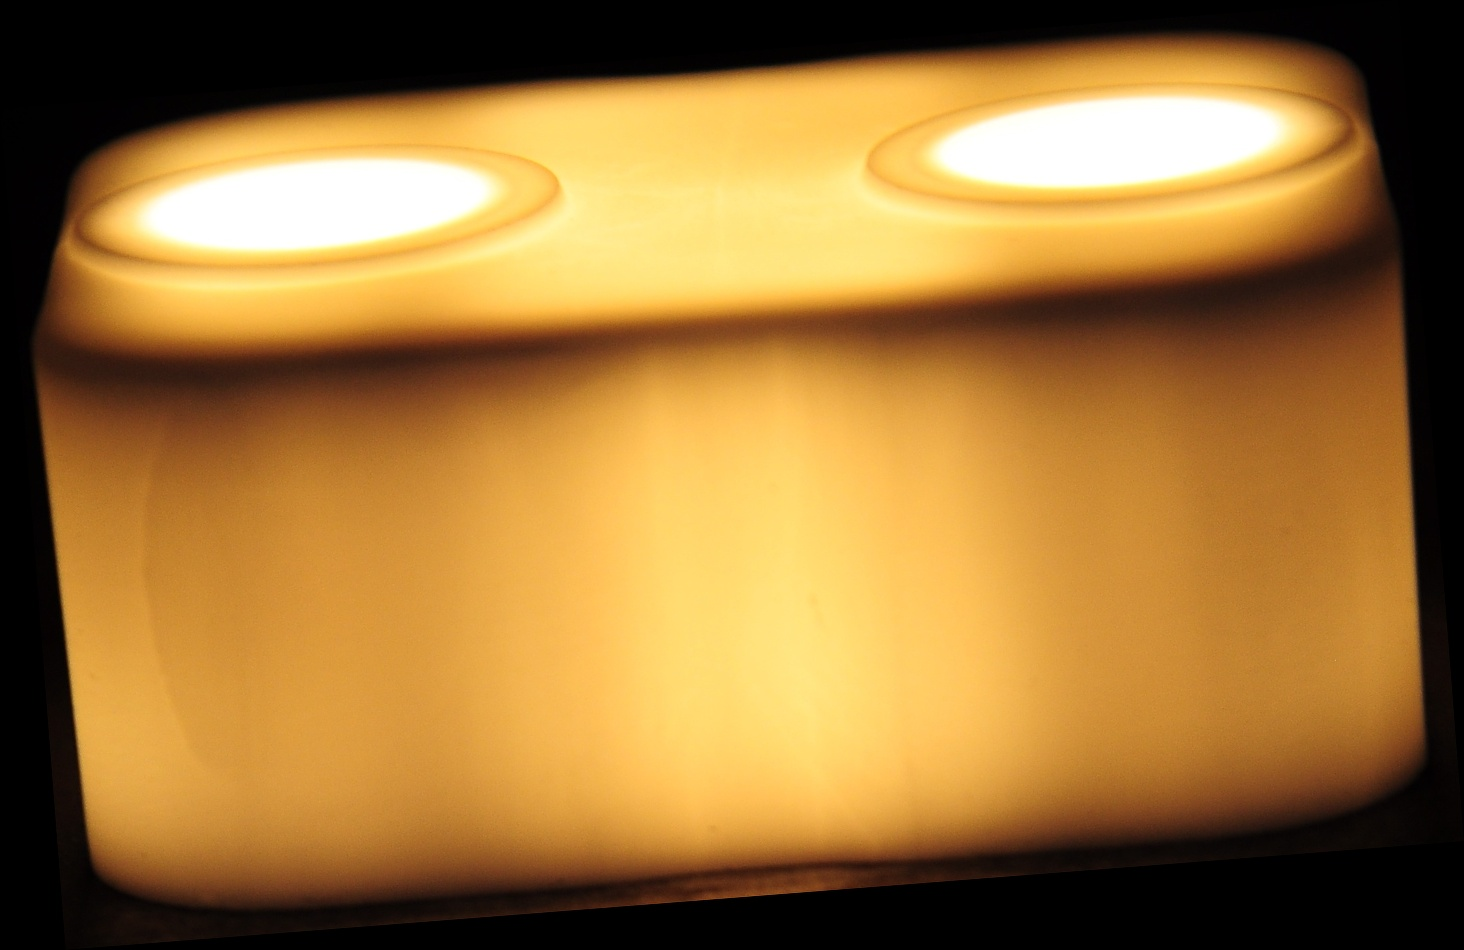flaw: (125, 385, 213, 803)
